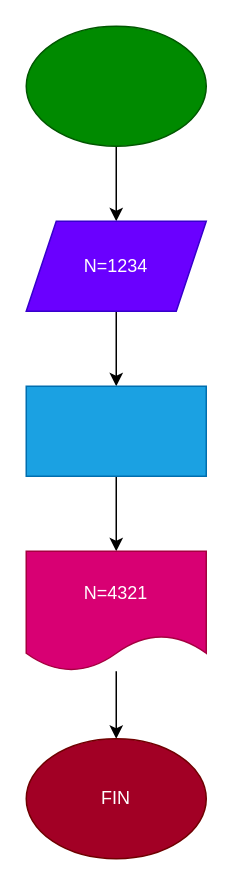
Image size: 233x885. Some labels were removed from this diagram. The box of each missing label's shape, as (x1, y1, x2, y2) in pixels:
INICIO: (25, 25, 206, 146)
R=N%10 DE=N//10: (25, 385, 206, 476)
